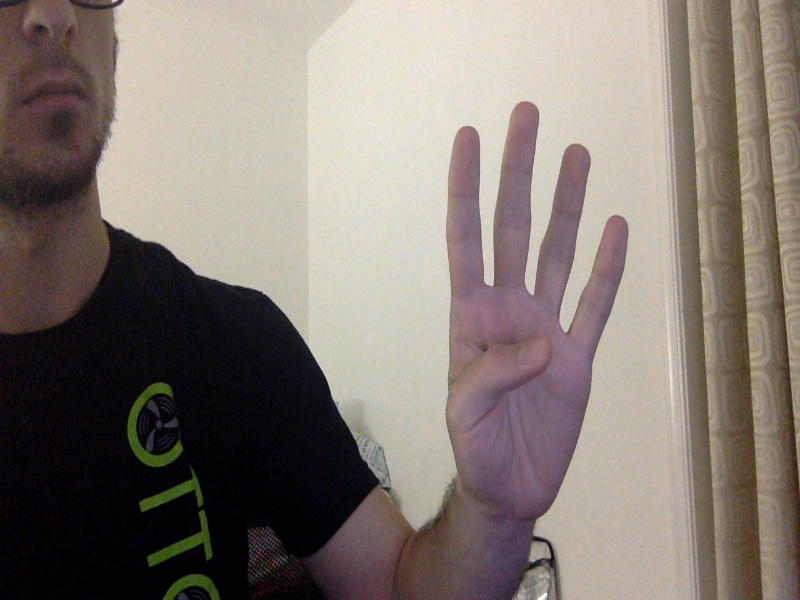4-hand: (443, 102, 631, 516)
